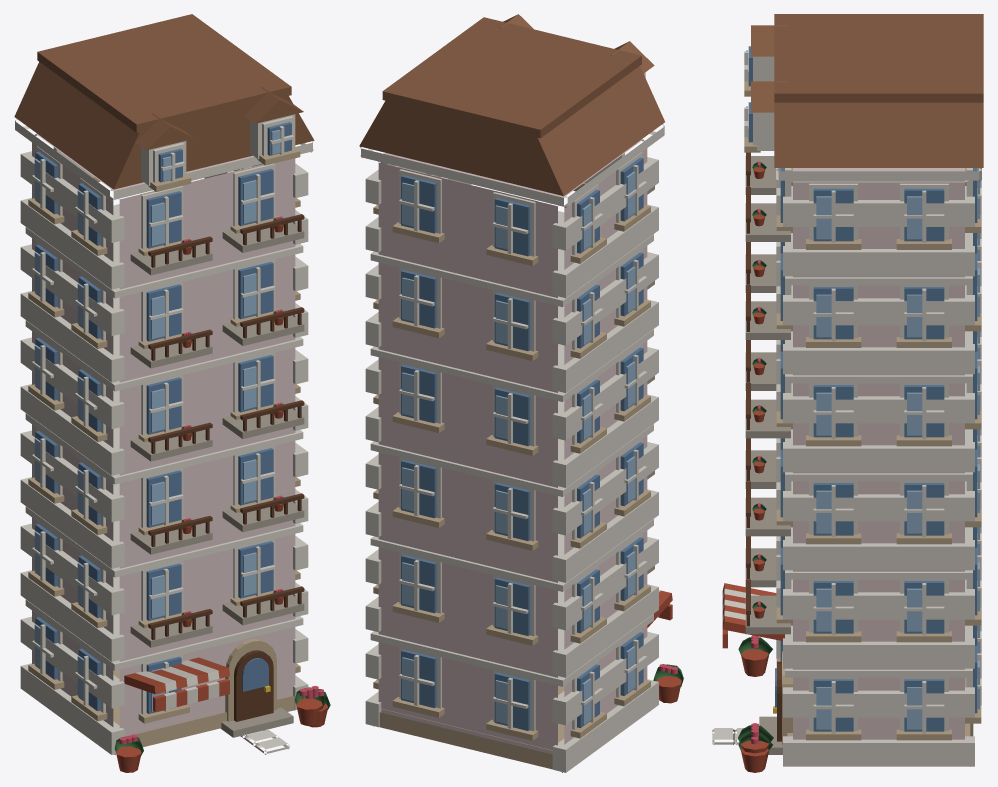
Rendered from building-tall-c.glb.
The picture shows the model from 3 angles, left to right: view 1: azimuth 30°, elevation 25°; view 2: azimuth 150°, elevation 25°; view 3: azimuth 270°, elevation 25°; orthographic projection. The views are drawn at different scales.
Visible parts, largest first — view 1: building-tall-c; view 2: building-tall-c; view 3: building-tall-c.
Boxes of the visible parts, <box> form: building-tall-c: <box>14,14,330,772</box>; building-tall-c: <box>359,14,683,772</box>; building-tall-c: <box>712,14,983,772</box>.
Bounding box in the file's own units: 0.8156 × 2.34 × 0.8601.
